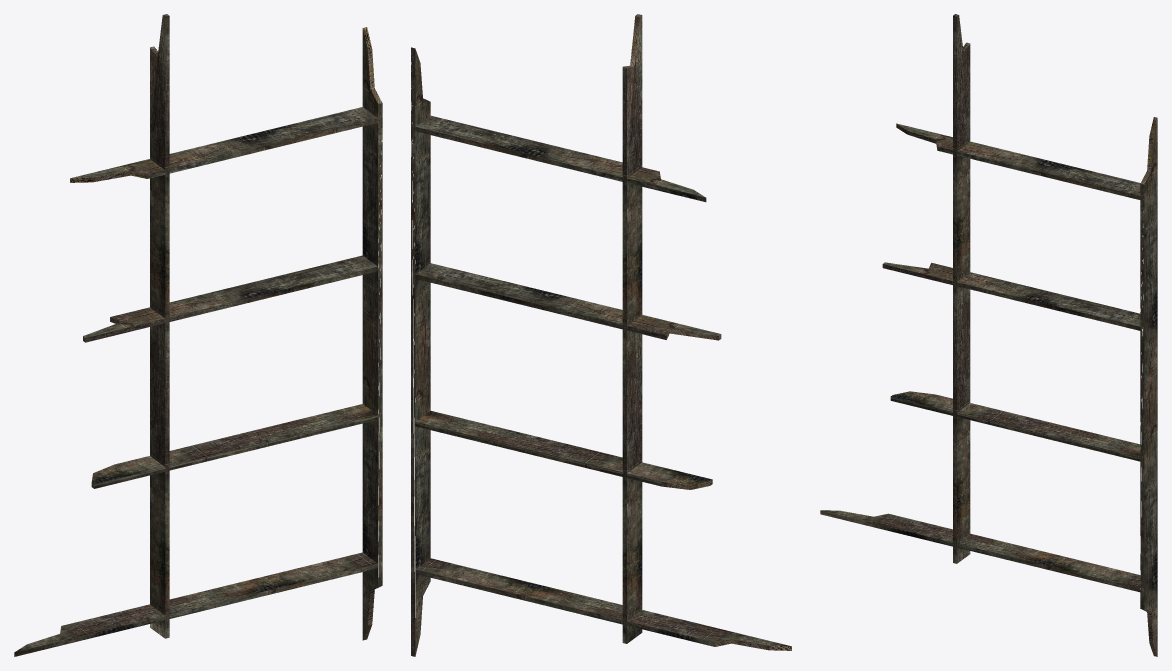
File: moscow_boards_1a.glb
3 views of the same model, side by side, from view 1: azimuth 30°, elevation 25°; view 2: azimuth 150°, elevation 25°; view 3: azimuth 330°, elevation 25° (orthographic). The views are drawn at different scales.
Bounding box in the file's own units: 166 × 296 × 12.
Materials: 2 (2 with a texture image).
